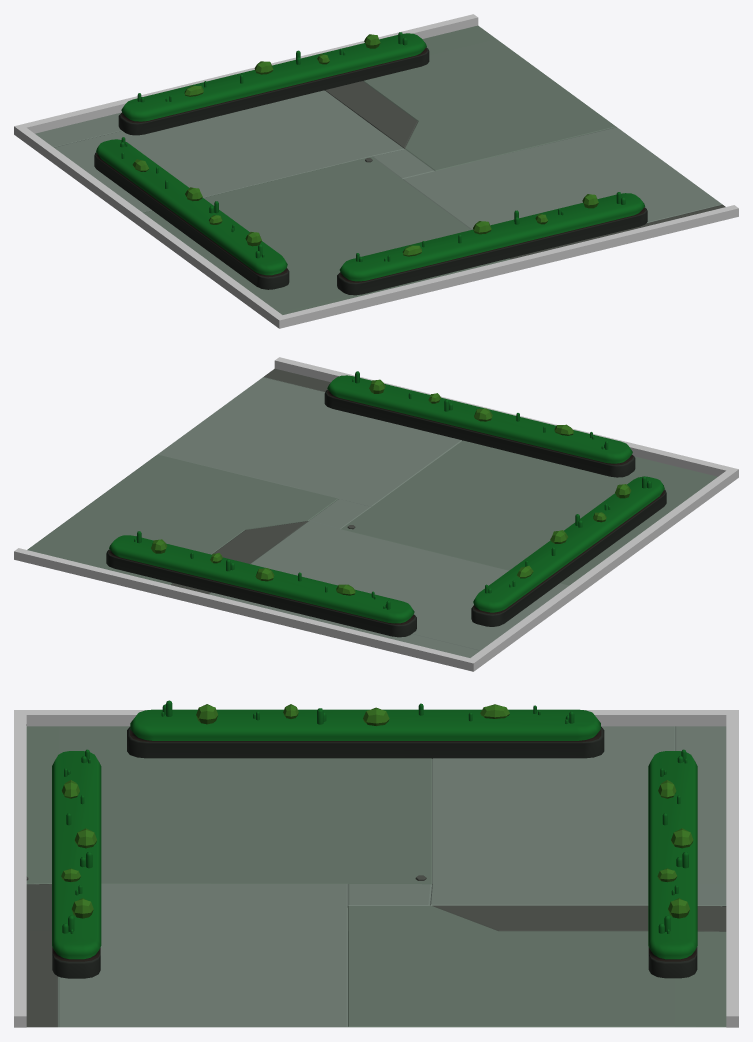
3 views of the same model, one above another, from view 1: azimuth 30°, elevation 25°; view 2: azimuth 150°, elevation 25°; view 3: azimuth 270°, elevation 25° (orthographic). The views are drawn at different scales.
Visible parts, largest first — view 1: Scifi_Panel_04_Plaza014_group4.018_Scifi_Panel_04_Plaza014_group, Cube.650_Cube.770, TreePatch_Plaza014_group3.005_TreePatch_Plaza014_group3.043, TreePatch_Plaza014_group3.004_TreePatch_Plaza014_group3.042, TreePatch_Plaza014_group3.000_TreePatch_Plaza014_group3.038; view 2: Scifi_Panel_04_Plaza014_group4.018_Scifi_Panel_04_Plaza014_group, Cube.650_Cube.770, TreePatch_Plaza014_group3.004_TreePatch_Plaza014_group3.042, TreePatch_Plaza014_group3.005_TreePatch_Plaza014_group3.043, TreePatch_Plaza014_group3.000_TreePatch_Plaza014_group3.038; view 3: Scifi_Panel_04_Plaza014_group4.018_Scifi_Panel_04_Plaza014_group, TreePatch_Plaza014_group3.000_TreePatch_Plaza014_group3.038, Cube.650_Cube.770, TreePatch_Plaza014_group3.004_TreePatch_Plaza014_group3.042, TreePatch_Plaza014_group3.005_TreePatch_Plaza014_group3.043.
Boxes of the visible parts, x1=… form: Scifi_Panel_04_Plaza014_group4.018_Scifi_Panel_04_Plaza014_group: x1=35, y1=25, x2=725, y2=314; Cube.650_Cube.770: x1=14, y1=14, x2=738, y2=328; TreePatch_Plaza014_group3.005_TreePatch_Plaza014_group3.043: x1=337, y1=193, x2=647, y2=295; TreePatch_Plaza014_group3.004_TreePatch_Plaza014_group3.042: x1=118, y1=33, x2=429, y2=135; TreePatch_Plaza014_group3.000_TreePatch_Plaza014_group3.038: x1=94, y1=139, x2=289, y2=289; Scifi_Panel_04_Plaza014_group4.018_Scifi_Panel_04_Plaza014_group: x1=27, y1=368, x2=717, y2=657; Cube.650_Cube.770: x1=14, y1=357, x2=738, y2=671; TreePatch_Plaza014_group3.004_TreePatch_Plaza014_group3.042: x1=106, y1=535, x2=416, y2=637; TreePatch_Plaza014_group3.005_TreePatch_Plaza014_group3.043: x1=324, y1=375, x2=635, y2=477; TreePatch_Plaza014_group3.000_TreePatch_Plaza014_group3.038: x1=471, y1=476, x2=666, y2=626; Scifi_Panel_04_Plaza014_group4.018_Scifi_Panel_04_Plaza014_group: x1=26, y1=724, x2=726, y2=1027; TreePatch_Plaza014_group3.000_TreePatch_Plaza014_group3.038: x1=127, y1=709, x2=604, y2=758; Cube.650_Cube.770: x1=14, y1=710, x2=738, y2=1027; TreePatch_Plaza014_group3.004_TreePatch_Plaza014_group3.042: x1=648, y1=751, x2=697, y2=978; TreePatch_Plaza014_group3.005_TreePatch_Plaza014_group3.043: x1=52, y1=751, x2=101, y2=978.
Bounding box in the file's own units: 10 × 0.7155 × 10.
